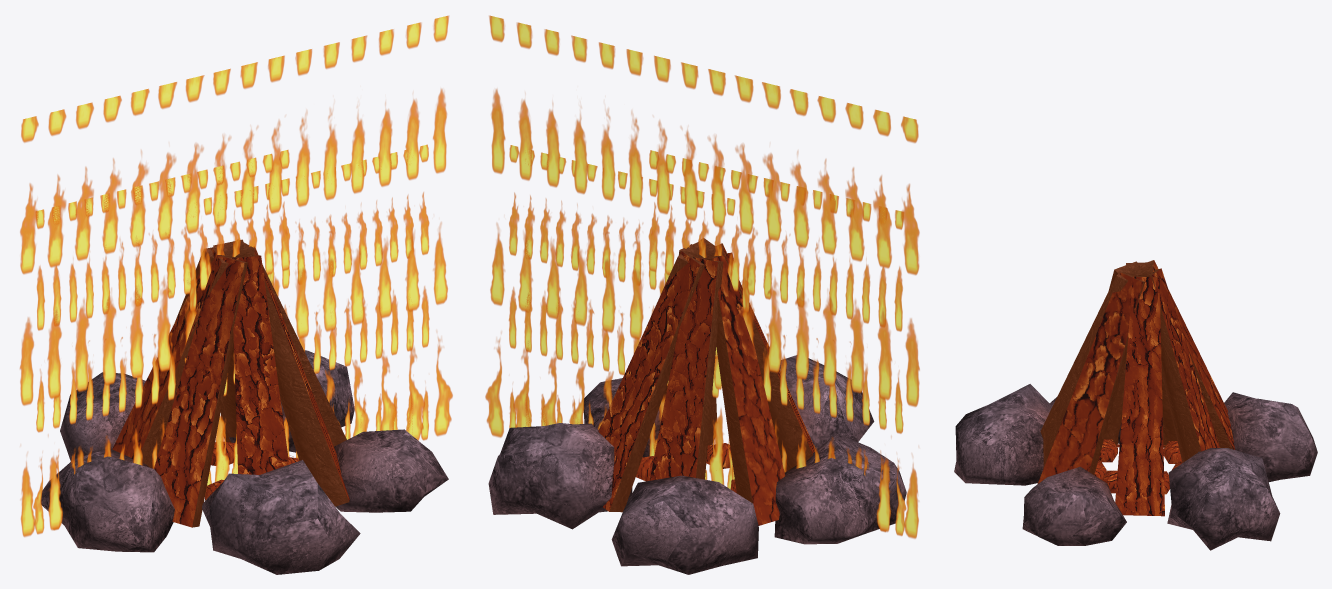
Rendered from mm6_deco_campfire.glb.
The picture shows the model from 3 angles, left to right: view 1: azimuth 30°, elevation 25°; view 2: azimuth 150°, elevation 25°; view 3: azimuth 270°, elevation 25°; orthographic projection. The views are drawn at different scales.
Visible parts, largest first — view 1: Campfire; view 2: Campfire; view 3: Campfire.
Part boxes in pixels (x1,y1,x2,y2): Campfire: (20,15,452,574); Campfire: (485,15,919,574); Campfire: (954,260,1317,550).
Bounding box in the file's own units: 1.6 × 1.48 × 1.3.
Materials: 4 (4 with a texture image).
